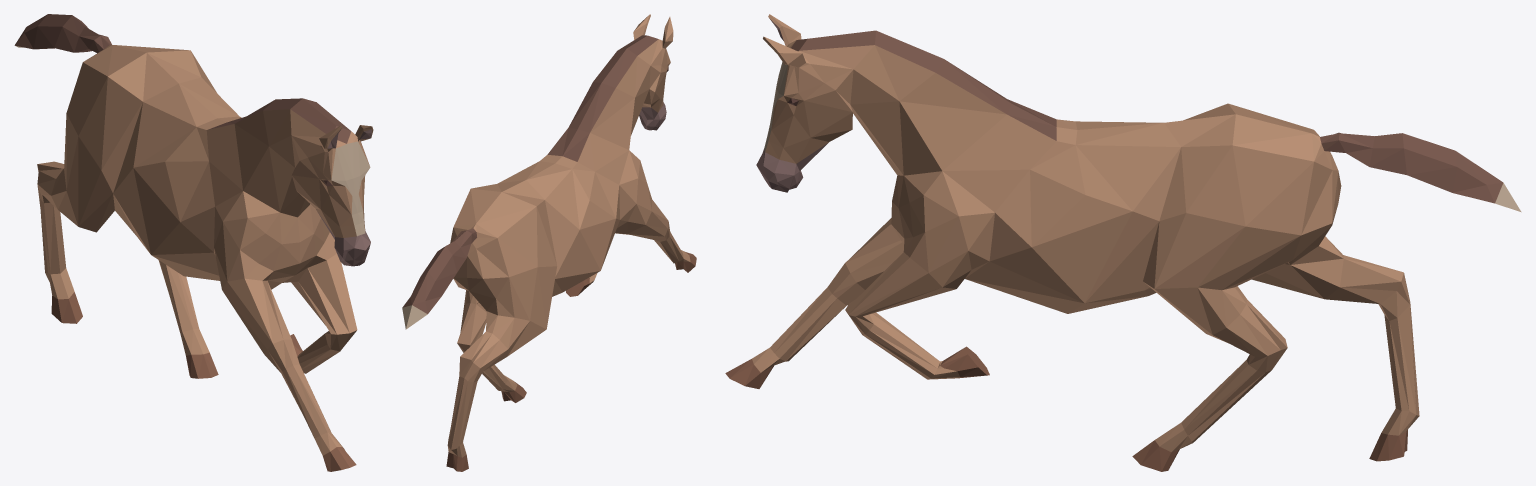
The model's file is Horse.glb.
3 views of the same model, side by side, from view 1: azimuth 30°, elevation 25°; view 2: azimuth 150°, elevation 25°; view 3: azimuth 270°, elevation 25° (orthographic). The views are drawn at different scales.
Parts seen in each view (by area): view 1: mesh_0; view 2: mesh_0; view 3: mesh_0.
Part boxes in pixels (<box>): mesh_0: <box>14,14,373,471</box>; mesh_0: <box>402,14,696,471</box>; mesh_0: <box>725,14,1521,471</box>.
Bounding box in the file's own units: 61.41 × 179 × 291.
